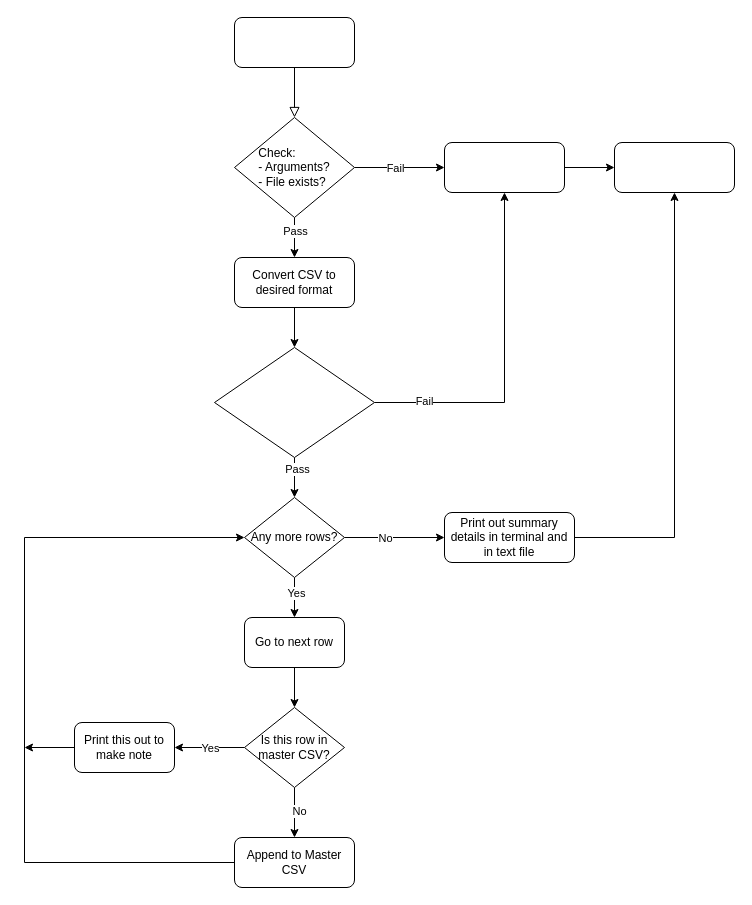
Some shapes in this 752 by 905 pixel diagram are drawn without their labels. Here are the shapes that lost their labels. From the top down, the centre of each, then its label:
At point 294,42: "Run script with an argument: CSV file".
At point 504,167: "Print error message".
At point 674,167: "End".
At point 294,402: "Check: - Successfully converted?".
